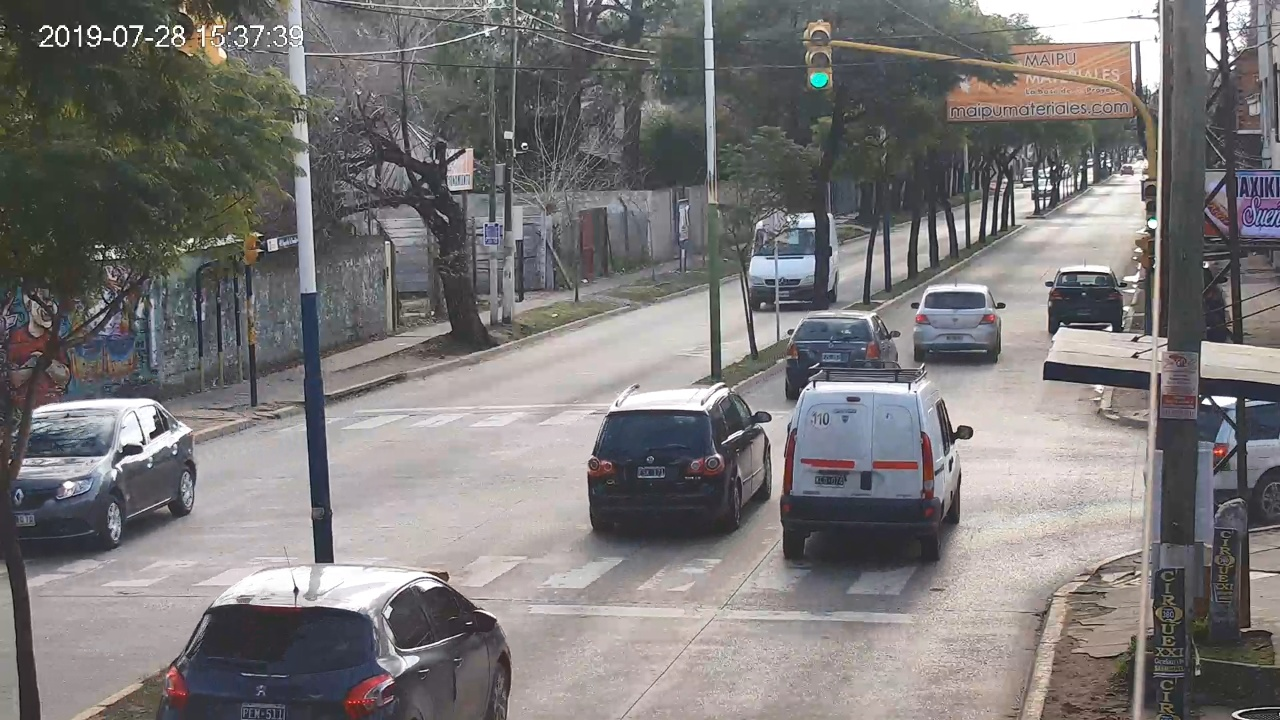car: (157, 564, 512, 720), (780, 371, 974, 559), (587, 379, 772, 529), (911, 284, 1006, 363)
traffic light: (808, 22, 831, 90), (1145, 180, 1156, 231)
